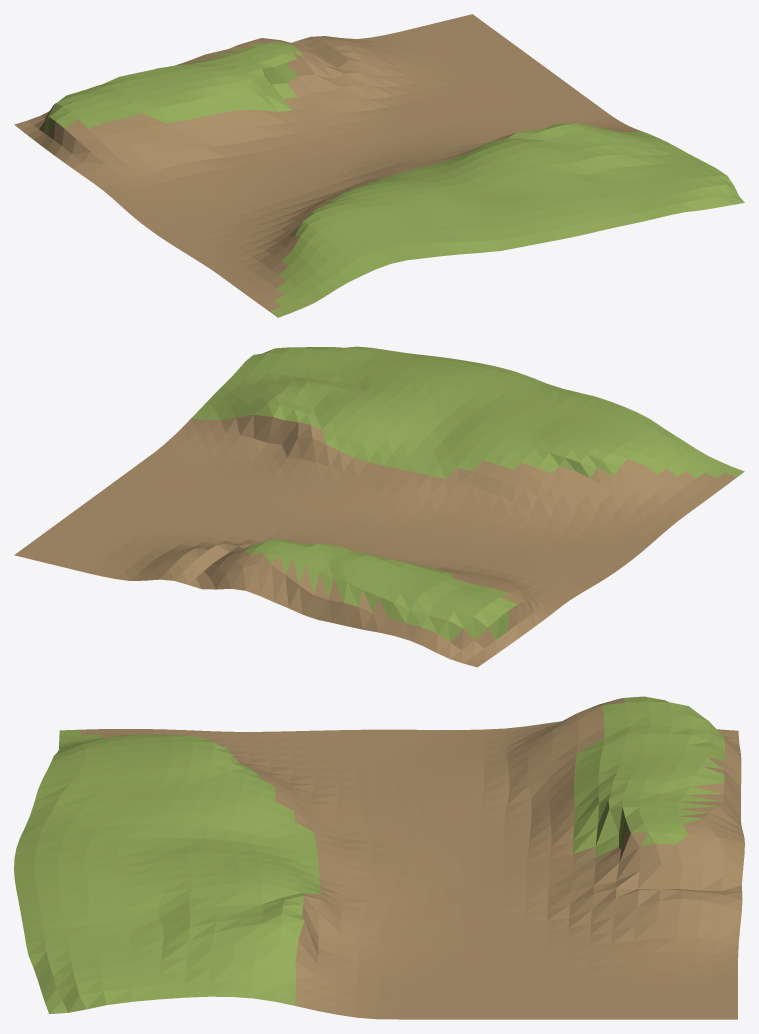
The model's file is CHAP5TER.fbx.
3 views of the same model, one above another, from view 1: azimuth 30°, elevation 25°; view 2: azimuth 150°, elevation 25°; view 3: azimuth 270°, elevation 25° (orthographic). The views are drawn at different scales.
Visible parts, largest first — view 1: M_terrian Temple.002; view 2: M_terrian Temple.002; view 3: M_terrian Temple.002.
Boxes of the visible parts, <box> form: M_terrian Temple.002: <box>14,14,744,317</box>; M_terrian Temple.002: <box>14,346,744,667</box>; M_terrian Temple.002: <box>14,696,744,1019</box>.
Size of the model in its own units: 20.82 by 1.77 by 21.56.
